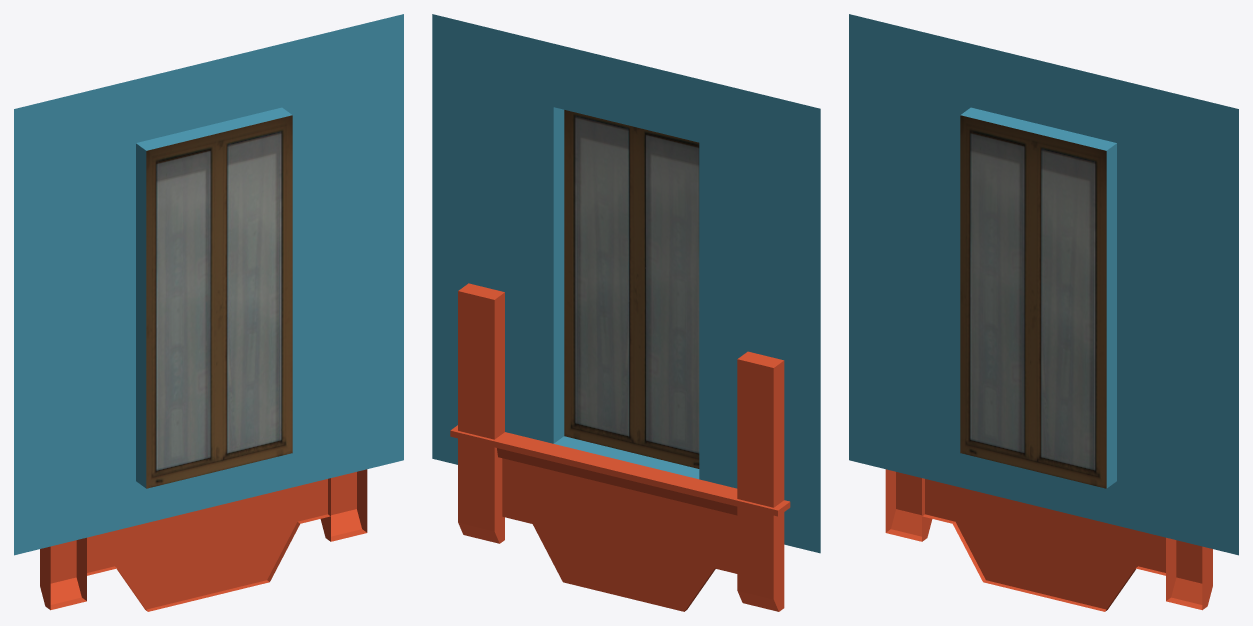
The model's file is FacadeSecondFloorB.FBX.
3 views of the same model, side by side, from view 1: azimuth 30°, elevation 25°; view 2: azimuth 150°, elevation 25°; view 3: azimuth 330°, elevation 25° (orthographic).
Parts seen in each view (by area): view 1: FacadeSecondFloorB; view 2: FacadeSecondFloorB; view 3: FacadeSecondFloorB.
Boxes of the visible parts, x1,y1,x2,y2 form: FacadeSecondFloorB: (14, 14, 403, 611); FacadeSecondFloorB: (432, 14, 820, 611); FacadeSecondFloorB: (849, 14, 1238, 611).
Bounding box in the file's own units: 320 × 420 × 32.5.
